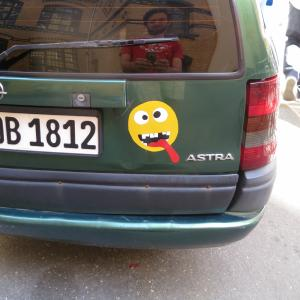Vehicle-registration-plate: (1, 109, 104, 158)
